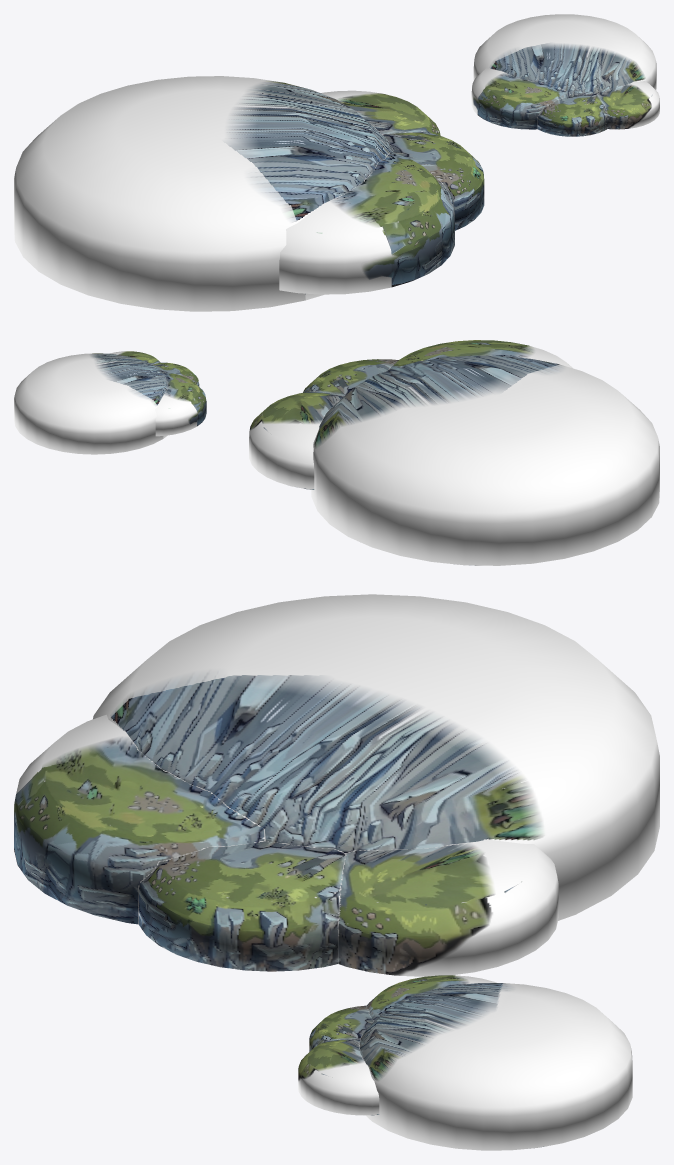
Rendered from mountains.glb.
3 renders of one model, top to bottom at view 1: azimuth 30°, elevation 25°; view 2: azimuth 150°, elevation 25°; view 3: azimuth 270°, elevation 25°, orthographic. The views are drawn at different scales.
Visible parts, largest first — view 1: Cyl 16 copy, Cyl 16 copy copy.001; view 2: Cyl 16 copy, Cyl 16 copy copy.001; view 3: Cyl 16 copy, Cyl 16 copy copy.001.
Part boxes in pixels (bbox=[...]): Cyl 16 copy: bbox=[14, 76, 484, 311]; Cyl 16 copy copy.001: bbox=[471, 14, 659, 136]; Cyl 16 copy: bbox=[249, 340, 659, 565]; Cyl 16 copy copy.001: bbox=[14, 351, 206, 454]; Cyl 16 copy: bbox=[14, 594, 659, 976]; Cyl 16 copy copy.001: bbox=[298, 975, 632, 1150].
Bounding box in the file's own units: 528 × 78.37 × 306.
Materials: 1 (1 with a texture image).
